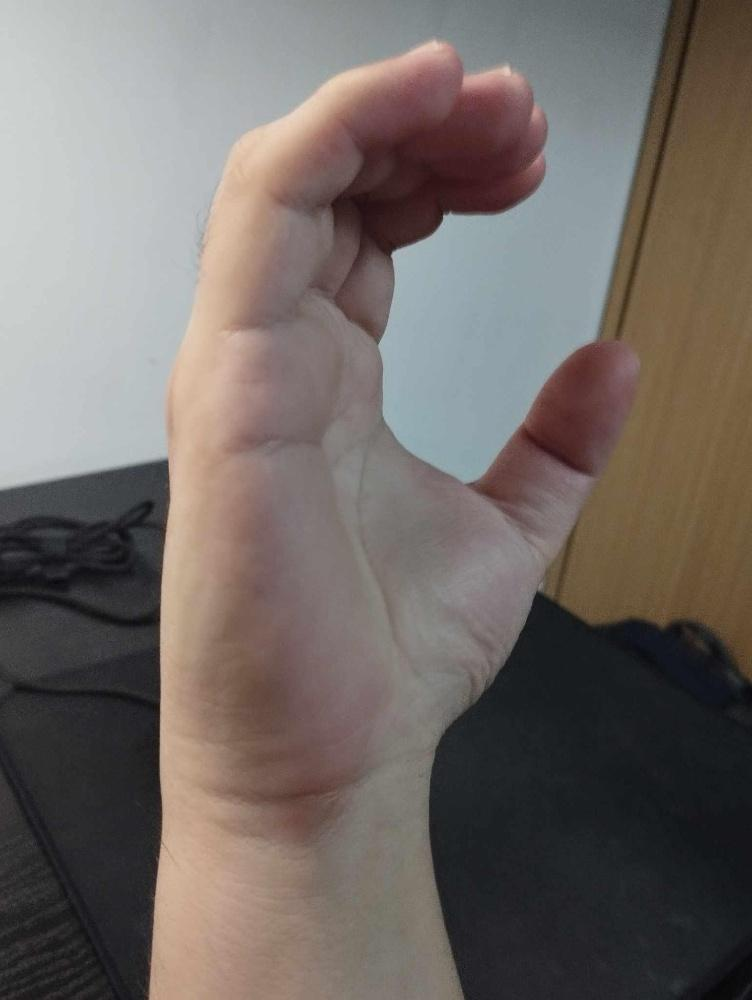c: (157, 33, 645, 814)
